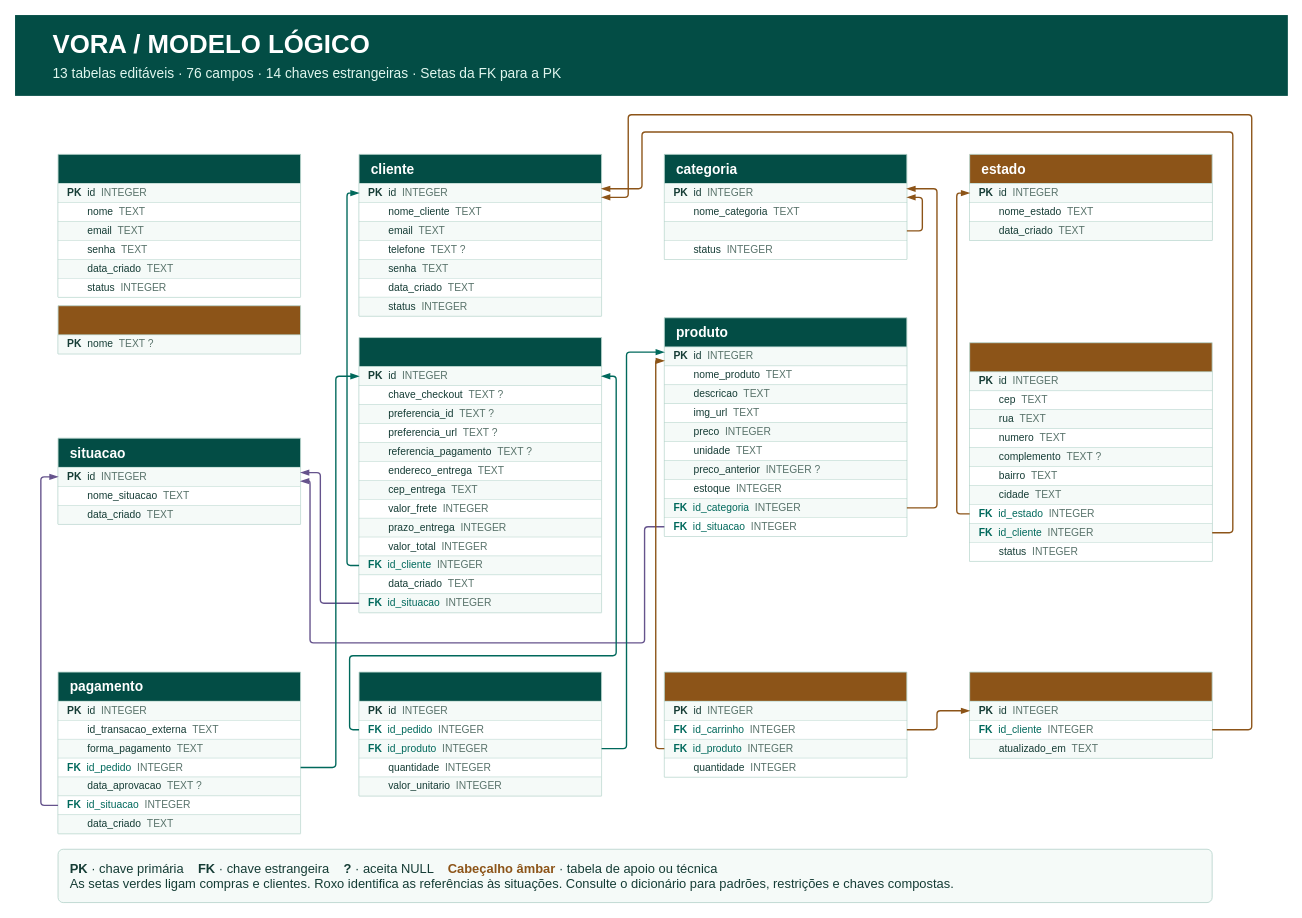
This 1302x918 diagram has some shape labels left out. Each missing label, with the box of its shape:
administrador: (57, 154, 301, 297)
carrinho: (969, 671, 1212, 758)
endereco: (969, 342, 1212, 561)
FK id_categoria_pai INTEGER ?: (664, 221, 907, 240)
migracao: (57, 305, 301, 354)
pedido: (358, 337, 602, 613)
produto_carrinho: (663, 671, 907, 777)
produto_pedido: (358, 671, 602, 796)
